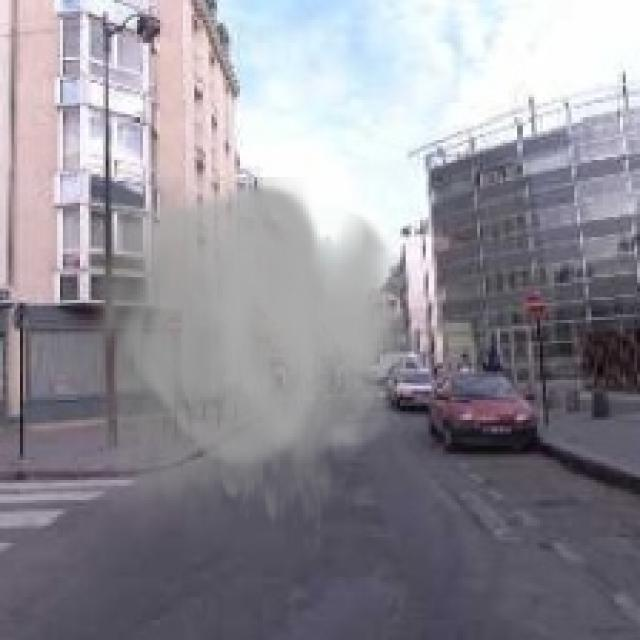Smoke: (71, 177, 420, 569)
